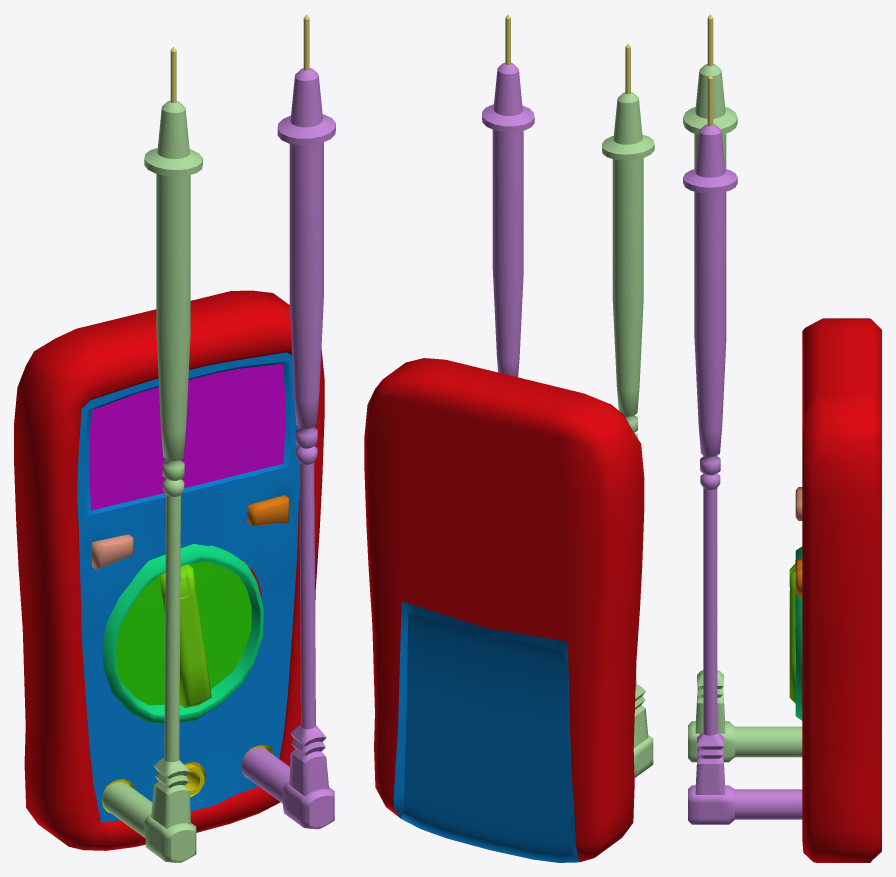
3 renders of one model, left to right at view 1: azimuth 30°, elevation 25°; view 2: azimuth 150°, elevation 25°; view 3: azimuth 270°, elevation 25°, orthographic. The views are drawn at different scales.
Visible parts, largest first — view 1: body.final, hand.final, mid.final; view 2: body.final, hand.final; view 3: body.final, hand.final, mid.final.
Part boxes in pixels (left/top/right/bottom): body.final: left=14, top=290, right=324, bottom=850; hand.final: left=103, top=14, right=335, bottom=862; mid.final: left=102, top=544, right=263, bottom=723; body.final: left=364, top=358, right=644, bottom=862; hand.final: left=482, top=14, right=654, bottom=777; body.final: left=795, top=318, right=881, bottom=862; hand.final: left=683, top=14, right=802, bottom=824; mid.final: left=789, top=546, right=802, bottom=720.
Bounding box in the file's own units: 281 × 816 × 187.
